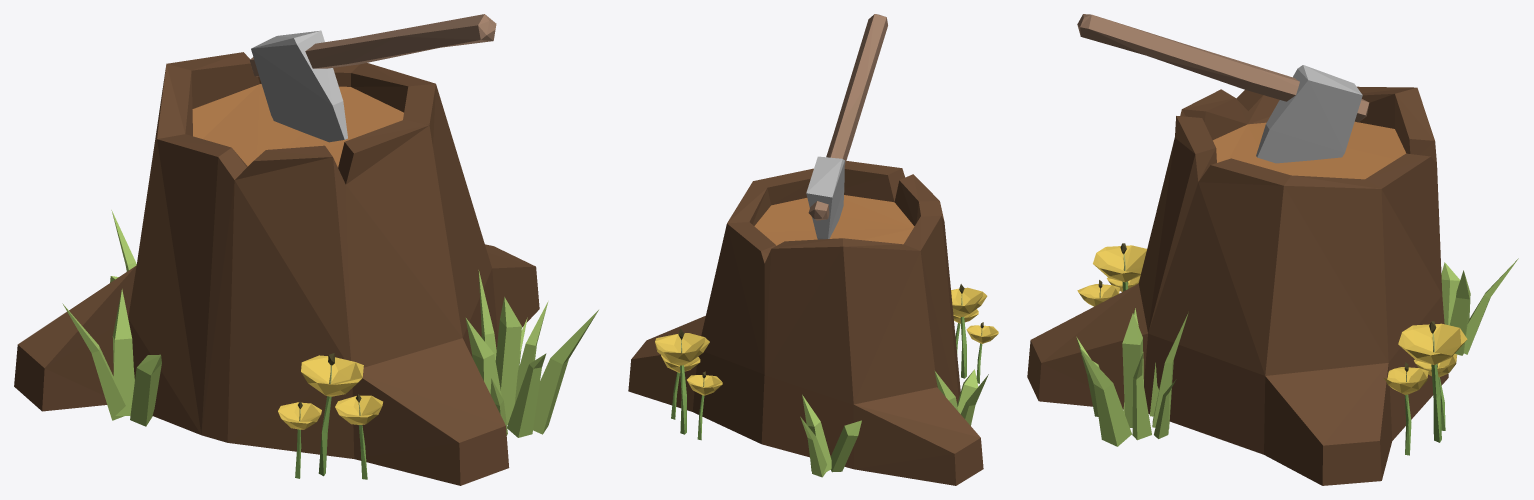
3 views of the same model, side by side, from view 1: azimuth 30°, elevation 25°; view 2: azimuth 150°, elevation 25°; view 3: azimuth 270°, elevation 25° (orthographic). The views are drawn at different scales.
Parts seen in each view (by area): view 1: Stump6.001; view 2: Stump6.001; view 3: Stump6.001.
Part boxes in pixels (box(x1,y1,x2,y2)): Stump6.001: box(14, 14, 598, 485); Stump6.001: box(628, 14, 998, 485); Stump6.001: box(1027, 14, 1518, 485).
Bounding box in the file's own units: 186 × 164 × 184.
